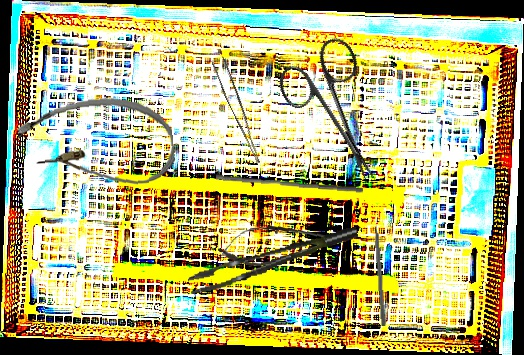Cannula: (15, 92, 177, 196)
Iris Scissors: (270, 32, 409, 200)
Micro Scissor: (216, 216, 352, 271)
Pusher: (215, 174, 364, 193), (373, 211, 387, 327)
Tissue Forceps: (184, 226, 363, 295), (208, 55, 272, 164)
